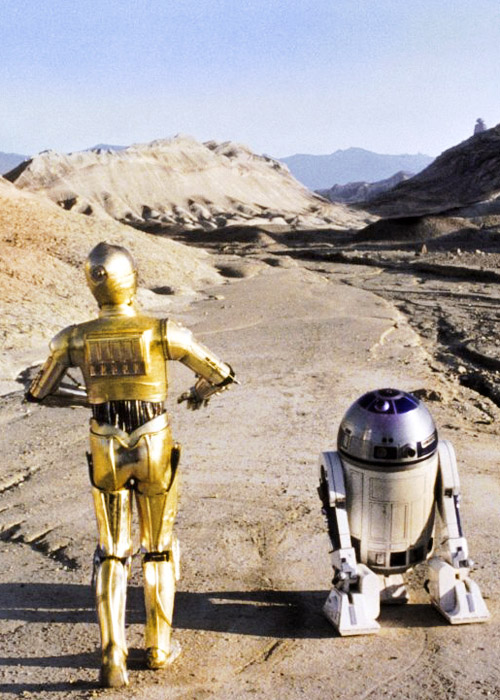r2d2: (316, 388, 492, 636)
